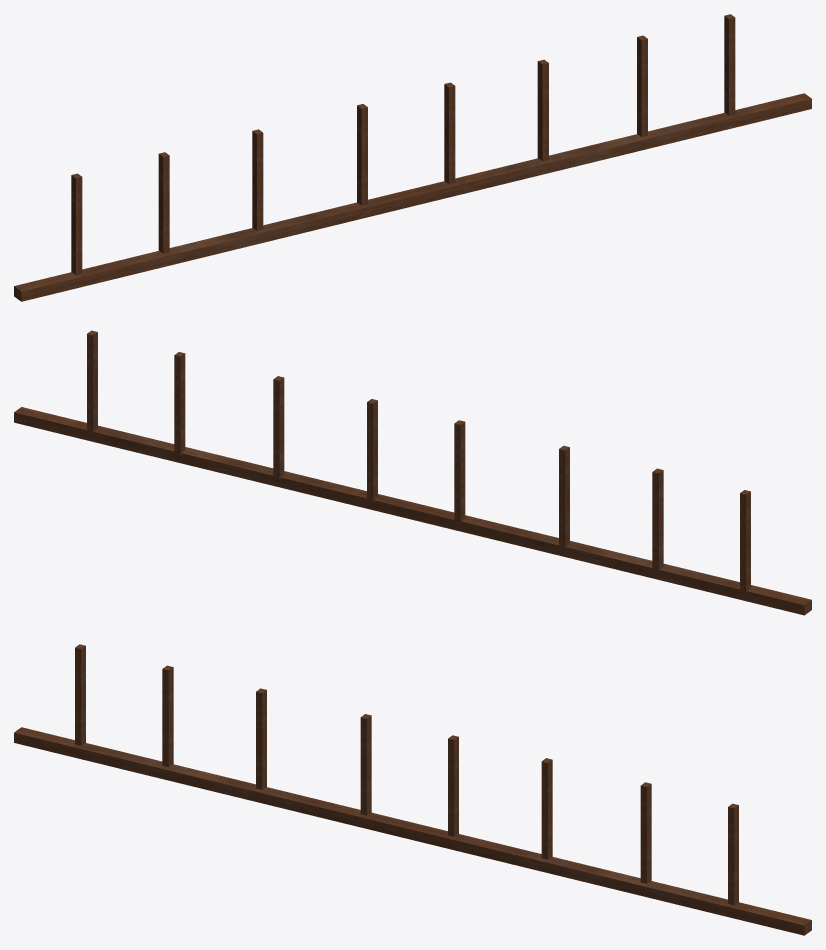
File: MaderitasFondo.fbx
3 views of the same model, one above another, from view 1: azimuth 30°, elevation 25°; view 2: azimuth 150°, elevation 25°; view 3: azimuth 330°, elevation 25° (orthographic).
Visible parts, largest first — view 1: BaranddalPiso.001, BaranddalPiso.003, BaranddalPiso.005, BaranddalPiso.009, BaranddalPiso.002, BaranddalPiso.006, BaranddalPiso.004, BaranddalPiso.008, BaranddalPiso.007; view 2: BaranddalPiso.001, BaranddalPiso.003, BaranddalPiso.007, BaranddalPiso.008, BaranddalPiso.005, BaranddalPiso.002, BaranddalPiso.006, BaranddalPiso.009, BaranddalPiso.004; view 3: BaranddalPiso.001, BaranddalPiso.003, BaranddalPiso.005, BaranddalPiso.007, BaranddalPiso.008, BaranddalPiso.002, BaranddalPiso.006, BaranddalPiso.009, BaranddalPiso.004.
Part boxes in pixels (x1,y1,x2,y2): BaranddalPiso.001: (14, 93, 811, 301); BaranddalPiso.003: (158, 152, 169, 253); BaranddalPiso.005: (537, 59, 548, 161); BaranddalPiso.009: (724, 14, 735, 115); BaranddalPiso.002: (71, 173, 82, 274); BaranddalPiso.006: (444, 82, 455, 183); BaranddalPiso.004: (252, 129, 263, 230); BaranddalPiso.008: (637, 35, 647, 136); BaranddalPiso.007: (357, 104, 367, 205); BaranddalPiso.001: (14, 407, 811, 615); BaranddalPiso.003: (652, 468, 663, 572); BaranddalPiso.007: (454, 420, 465, 524); BaranddalPiso.008: (174, 352, 185, 455); BaranddalPiso.005: (273, 376, 284, 479); BaranddalPiso.002: (740, 490, 750, 593); BaranddalPiso.006: (367, 399, 377, 502); BaranddalPiso.009: (87, 330, 97, 434); BaranddalPiso.004: (559, 445, 569, 549); BaranddalPiso.001: (14, 727, 811, 935); BaranddalPiso.003: (162, 665, 173, 767); BaranddalPiso.005: (541, 758, 552, 859); BaranddalPiso.007: (360, 714, 371, 815); BaranddalPiso.008: (640, 782, 651, 883); BaranddalPiso.002: (75, 644, 85, 745); BaranddalPiso.006: (448, 735, 458, 836); BaranddalPiso.009: (728, 803, 738, 905); BaranddalPiso.004: (256, 688, 266, 789).
Size of the model in its own units: 5856 by 757 by 102.
9 materials, 9 textured.
